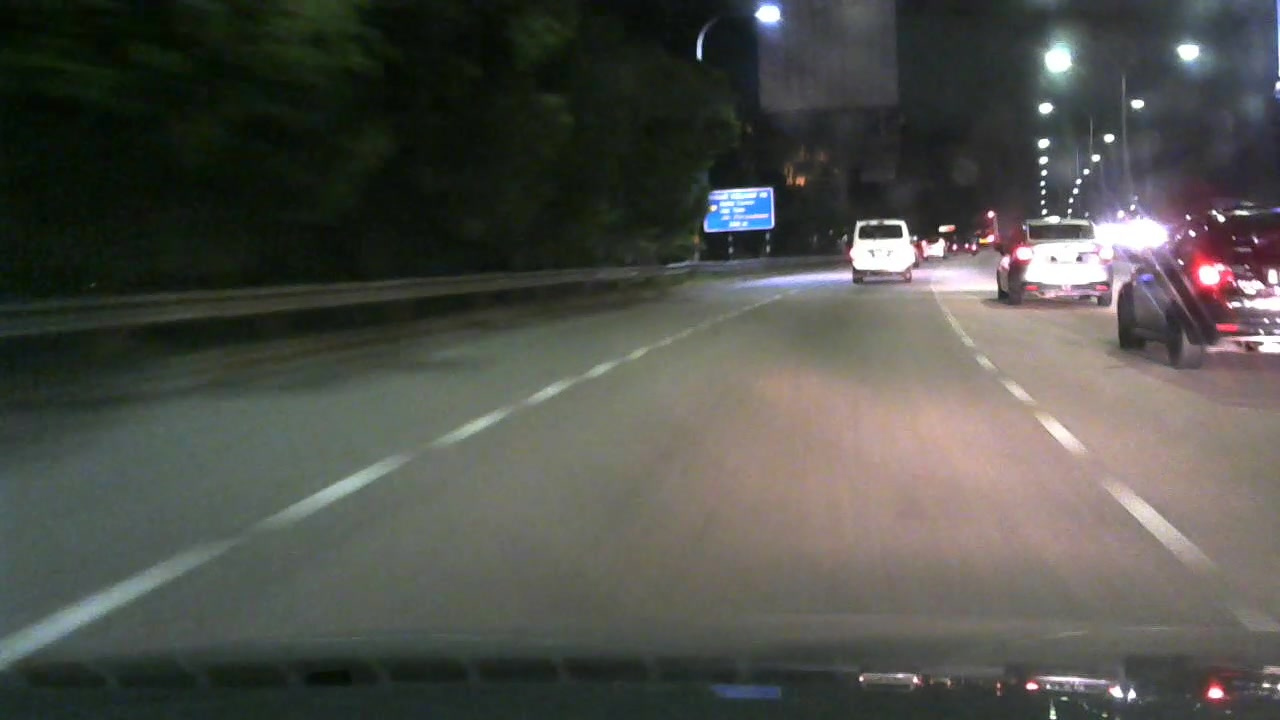Car: (1100, 197, 1280, 366), (987, 199, 1115, 320), (918, 232, 957, 264)
